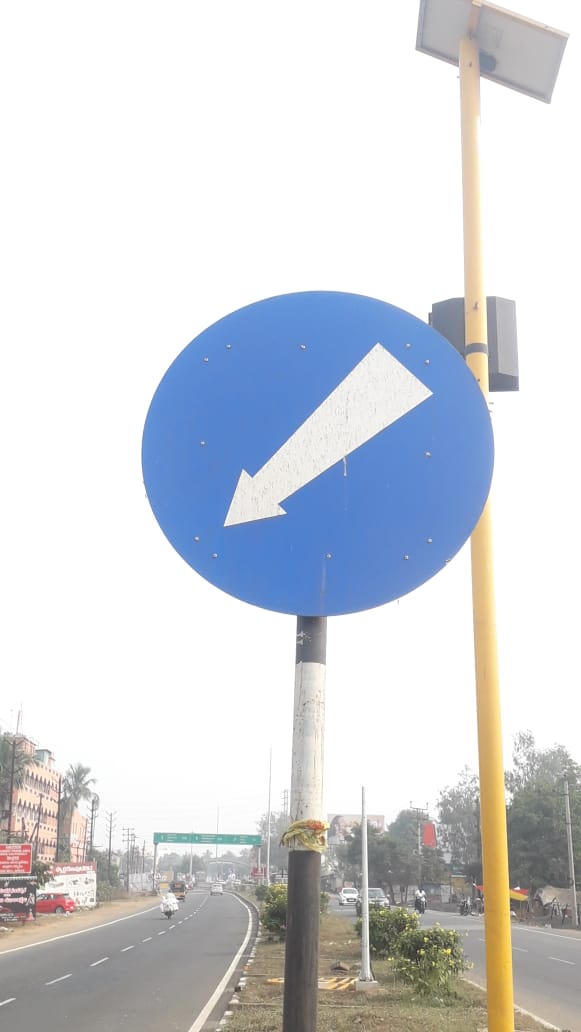go left: (145, 271, 517, 633)
